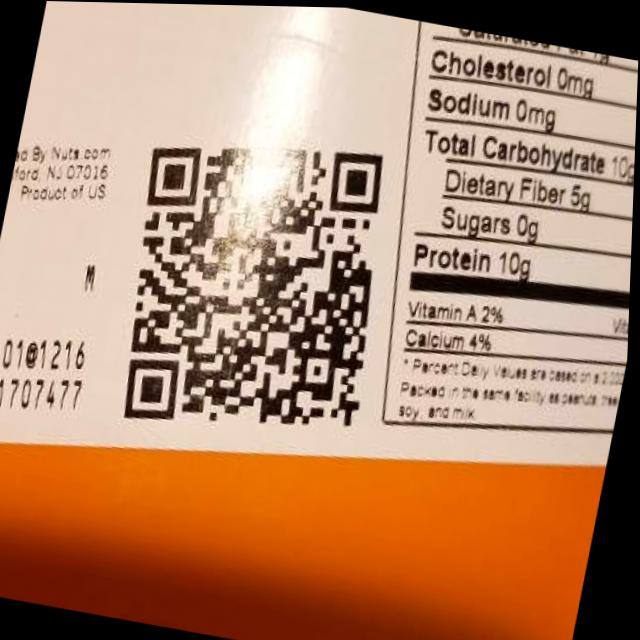QR_CODE: (84, 87, 425, 467)
